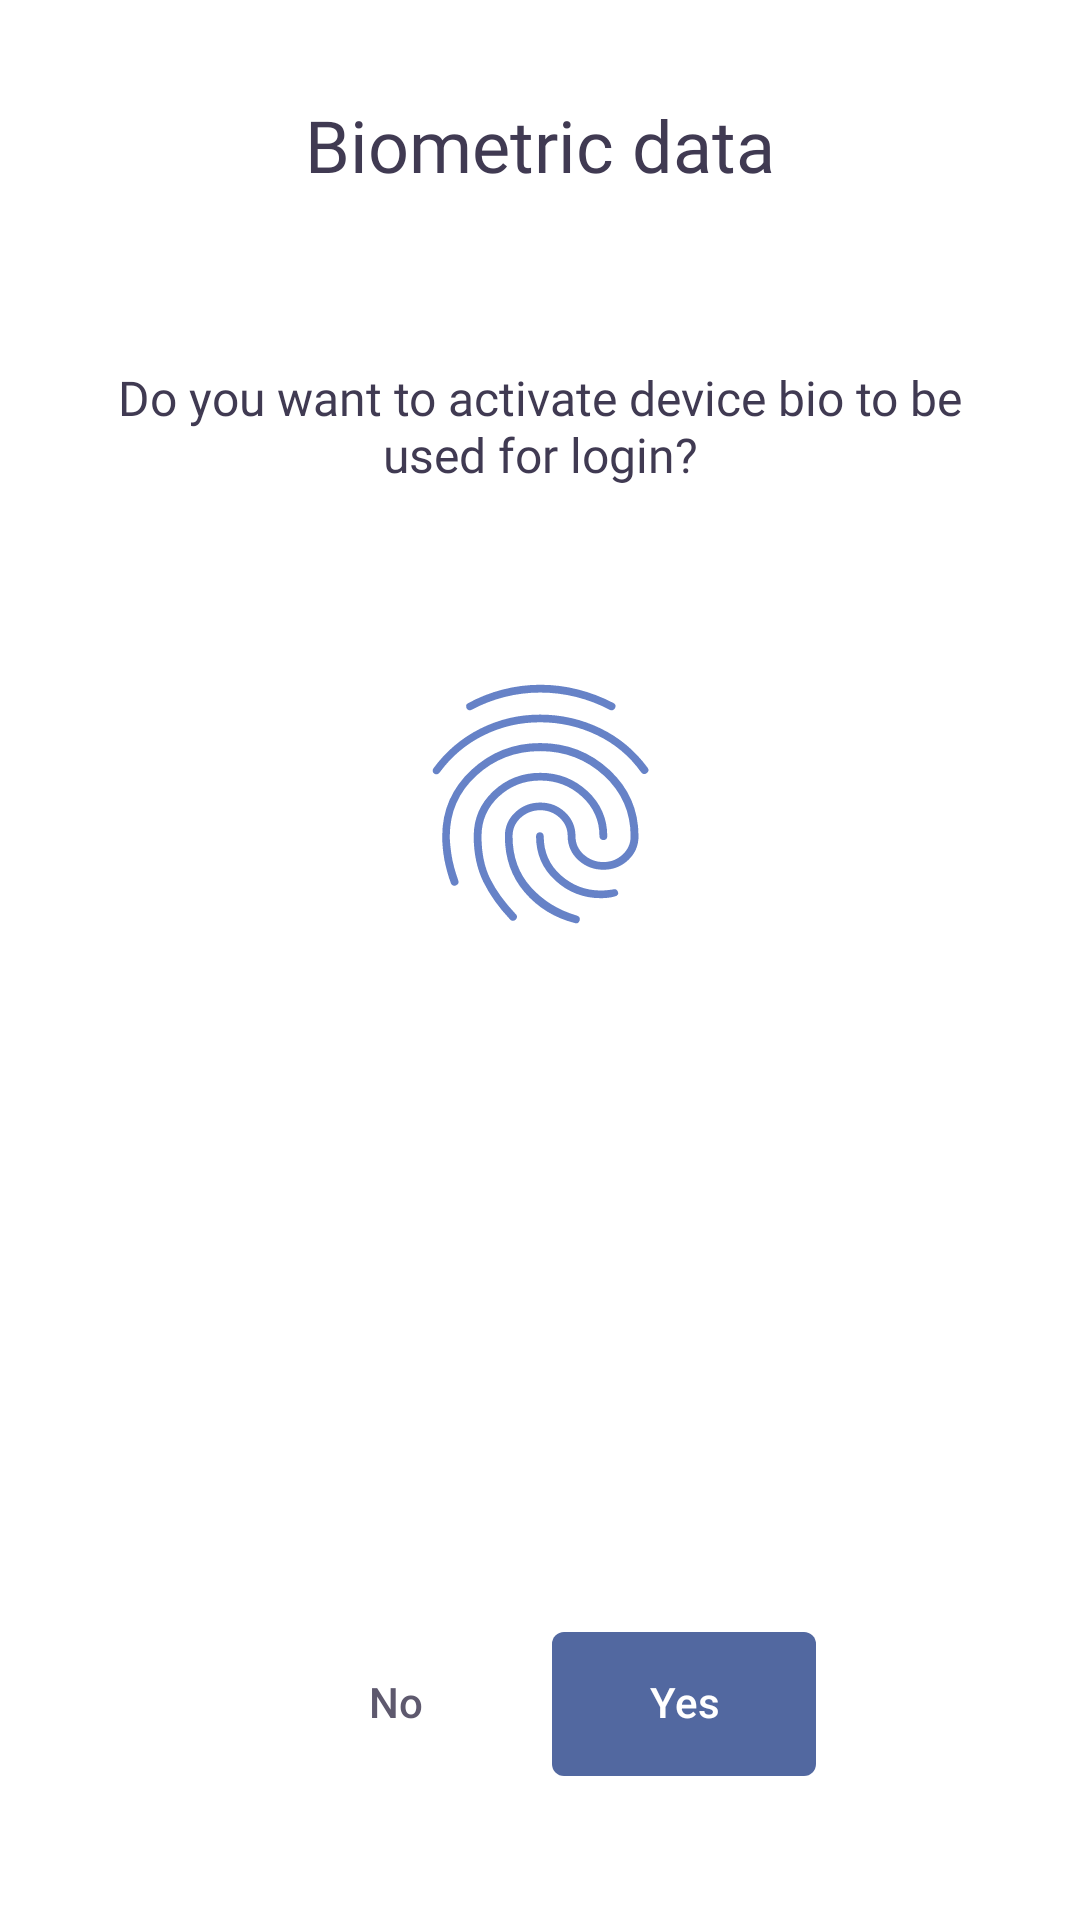

Named icons in this screenshot (1080 x 1920) and their centers, point (x, y):
fingerprint: point (540, 804)
